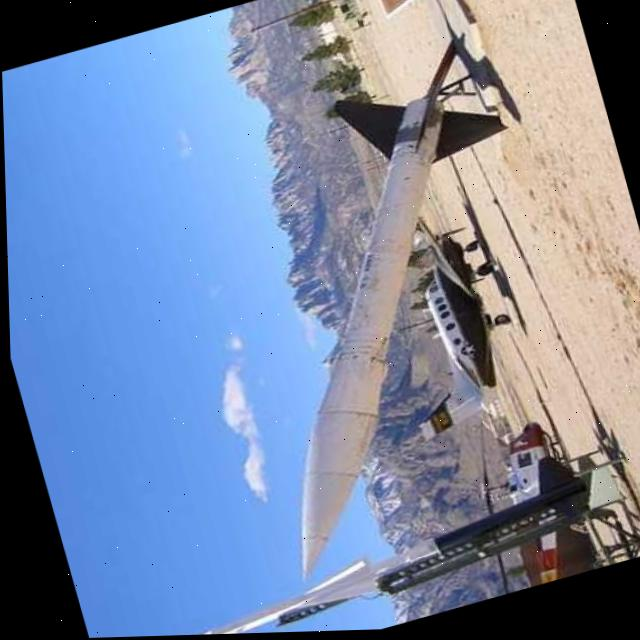missile: (166, 34, 610, 588), (359, 198, 538, 448), (146, 556, 380, 637)
